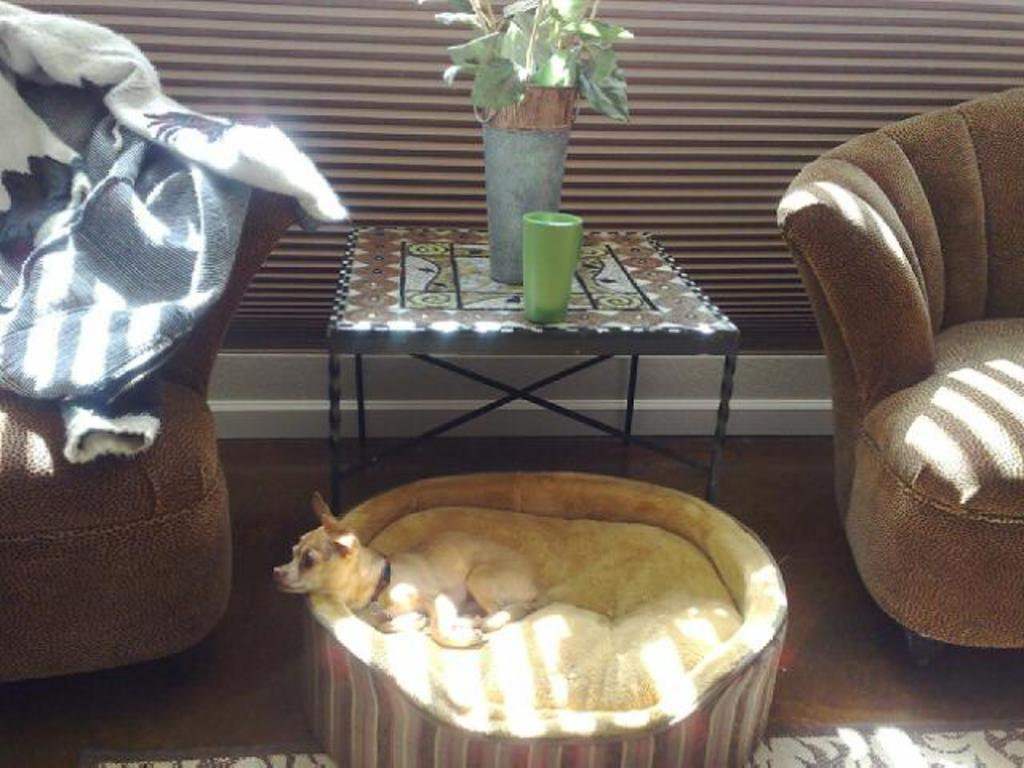Chair: (0, 0, 304, 699), (773, 86, 1022, 669)
